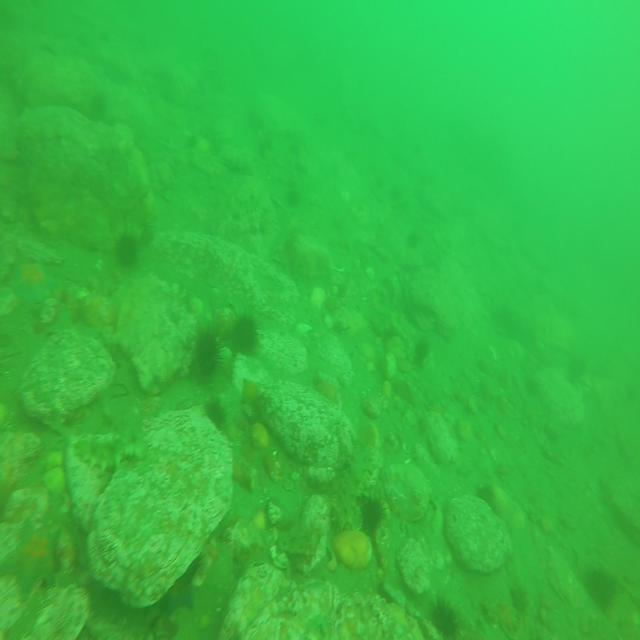echinus: (582, 564, 624, 619), (87, 578, 123, 628), (358, 491, 390, 538), (230, 312, 262, 358), (112, 232, 139, 278), (193, 329, 218, 375), (427, 600, 455, 640), (201, 394, 229, 434), (474, 481, 496, 517), (89, 95, 108, 128), (411, 336, 430, 367)
holothurian: (327, 436, 372, 534), (72, 431, 146, 473)
starfish: (0, 517, 62, 602), (12, 256, 54, 314)
